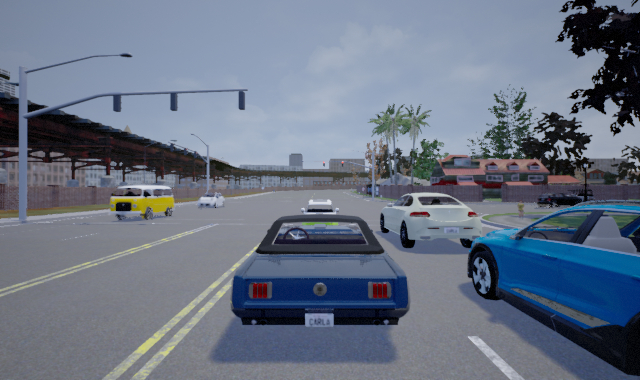pedestrian: (515, 198, 526, 220)
traffic_light: (322, 160, 326, 167), (340, 159, 343, 167)
vehicle: (467, 198, 639, 379), (230, 213, 410, 327), (378, 192, 485, 249), (103, 184, 175, 221), (297, 198, 342, 241), (197, 192, 225, 209)
